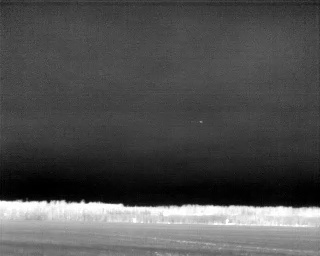HELICOPTER: (198, 118, 205, 125)
